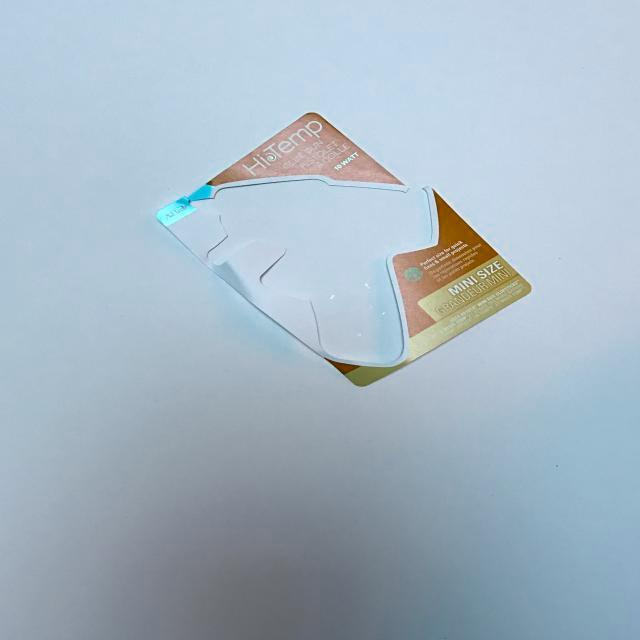paper: (153, 93, 553, 410)
